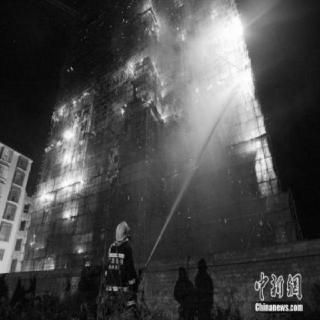Fire: (180, 1, 281, 195), (106, 3, 174, 127), (27, 232, 37, 248), (74, 244, 84, 256)
